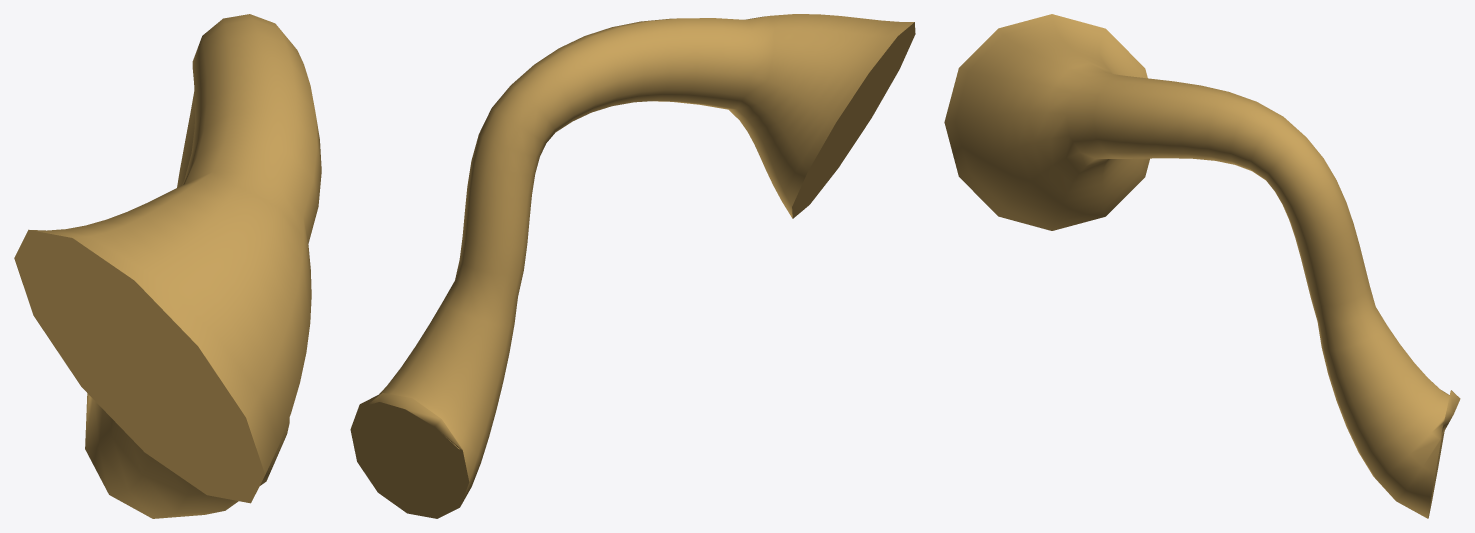
3 views of the same model, side by side, from view 1: azimuth 30°, elevation 25°; view 2: azimuth 150°, elevation 25°; view 3: azimuth 270°, elevation 25° (orthographic). The views are drawn at different scales.
Visible parts, largest first — view 1: 右侧前交叉韧带; view 2: 右侧前交叉韧带; view 3: 右侧前交叉韧带.
Part boxes in pixels (bbox=[...]): 右侧前交叉韧带: bbox=[14, 14, 321, 518]; 右侧前交叉韧带: bbox=[350, 14, 915, 518]; 右侧前交叉韧带: bbox=[944, 14, 1460, 518].
Bounding box in the file's own units: 0.0312 × 0.0362 × 0.0438.
